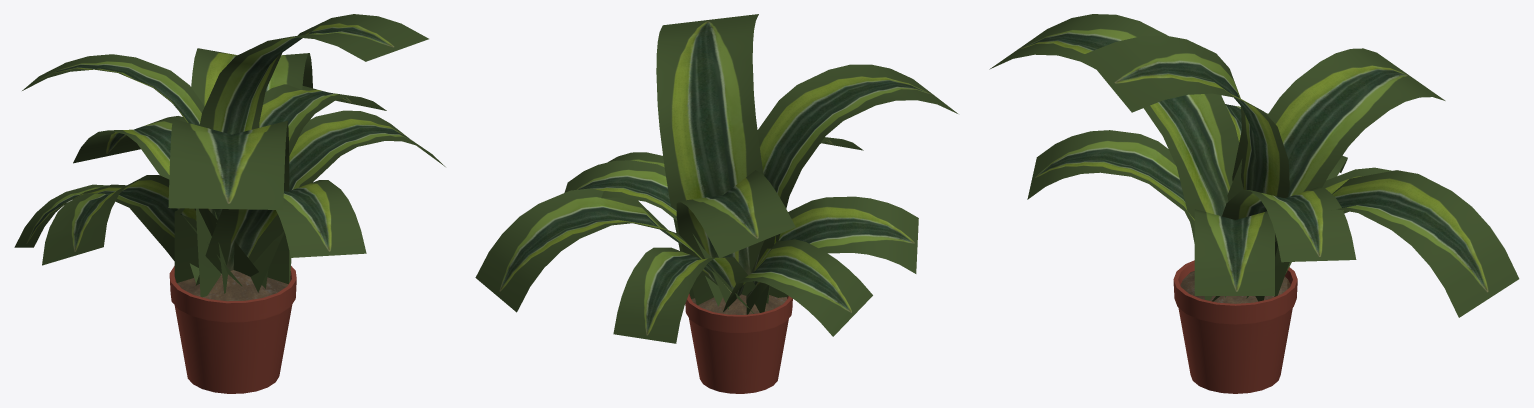
File: My plant.glb
The picture shows the model from 3 angles, left to right: view 1: azimuth 30°, elevation 25°; view 2: azimuth 150°, elevation 25°; view 3: azimuth 270°, elevation 25°; orthographic projection. The views are drawn at different scales.
Parts seen in each view (by area): view 1: eb_house_plant_01; view 2: eb_house_plant_01; view 3: eb_house_plant_01.
Boxes of the visible parts, x1,y1,x2,y2 form: eb_house_plant_01: [14, 14, 445, 393]; eb_house_plant_01: [475, 14, 957, 393]; eb_house_plant_01: [989, 14, 1519, 393].
Size of the model in its own units: 39.59 by 35.88 by 47.5.
2 materials, 1 textured.
